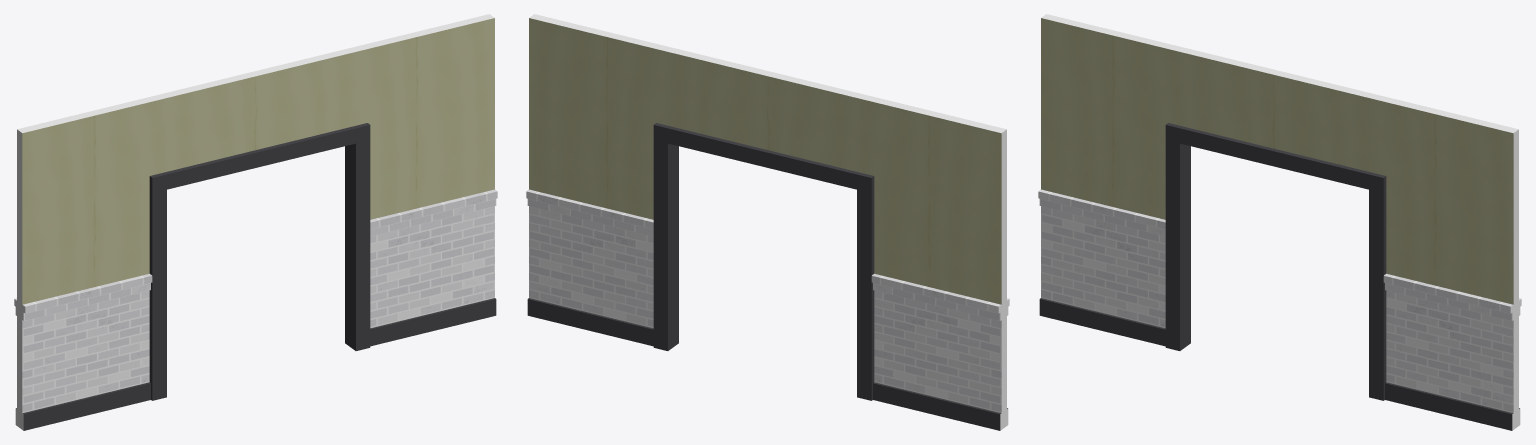
Rendered from SM_Buildings_WallDoorDouble_5x3_01_TileBack.fbx.
3 renders of one model, left to right at view 1: azimuth 30°, elevation 25°; view 2: azimuth 150°, elevation 25°; view 3: azimuth 330°, elevation 25°, orthographic.
Parts seen in each view (by area): view 1: SM_Buildings_WallDoorDouble_5x3_01_TileBack; view 2: SM_Buildings_WallDoorDouble_5x3_01_TileBack; view 3: SM_Buildings_WallDoorDouble_5x3_01_TileBack.
Boxes of the visible parts, box(x1,y1,x2,y2) form: SM_Buildings_WallDoorDouble_5x3_01_TileBack: box(14, 14, 497, 430); SM_Buildings_WallDoorDouble_5x3_01_TileBack: box(526, 14, 1009, 430); SM_Buildings_WallDoorDouble_5x3_01_TileBack: box(1038, 14, 1521, 430).
Bounding box in the file's own units: 500 × 300 × 20.
1 material, 1 textured.
